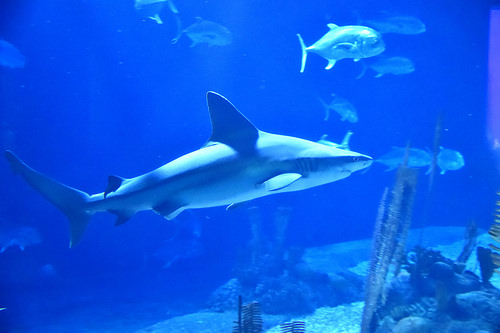shark: (7, 79, 384, 256)
